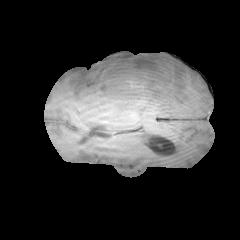glioma: (100, 52, 186, 113)
